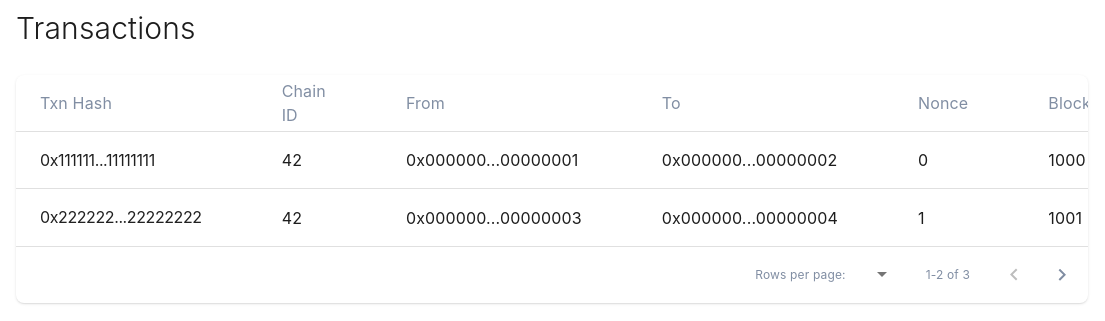
TransactionsScreen › can page through the list of transactions
Check: the text "0x111111...11111111" is shown, box [40,149,155,172]
Check: the text "0x222222...22222222" is shown, box [40,206,202,230]
Click the button named "next-page": (1062, 275) [1038,251,1086,299]
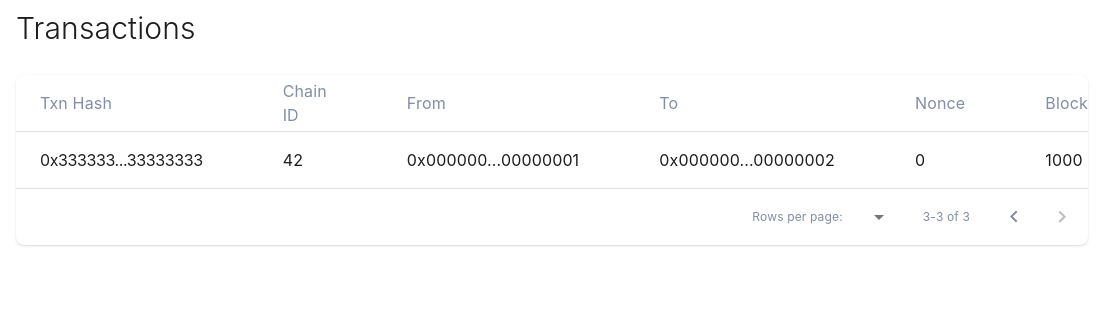
Check: the text "0x333333...33333333" is shown, box [40,149,203,172]
Check: the text "3-3 of 3" is shown, box [923,208,970,227]
Check: the button named "next-page" is disabled, box [1038,193,1086,241]
Click the button named "prev-page": (1014, 217) [990,193,1038,241]
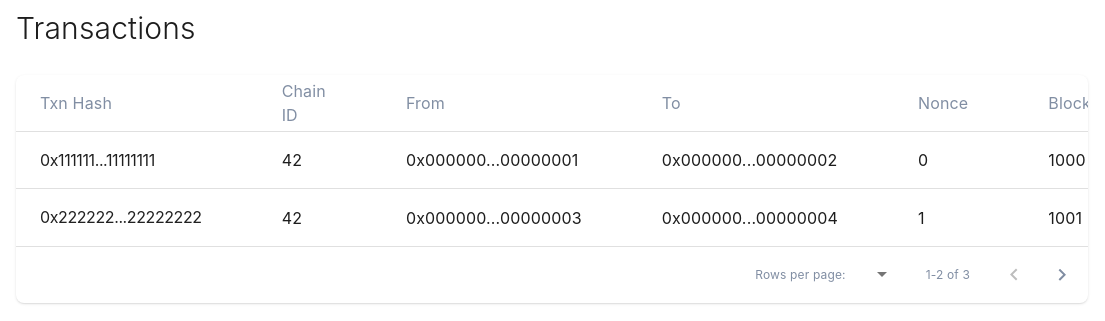
Check: the text "0x111111...11111111" is shown, box [40,149,155,172]
Check: the text "0x222222...22222222" is shown, box [40,206,202,230]
Check: the text "1-2 of 3" is shown, box [926,265,970,285]
